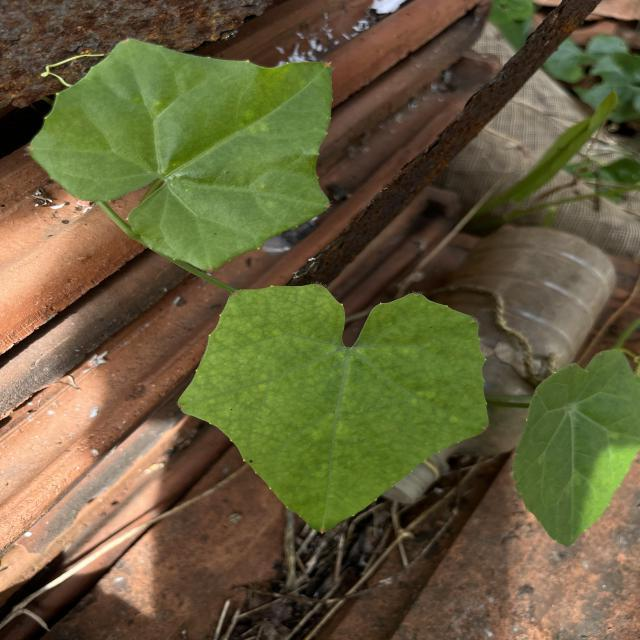Coccinia grandis: (175, 280, 490, 536), (22, 36, 336, 274)
